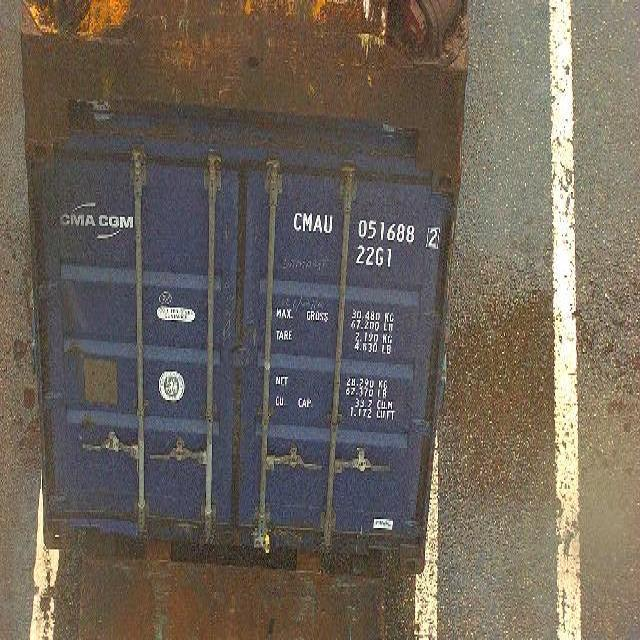ISO: (358, 246, 397, 268)
container_number: (290, 201, 442, 249)
